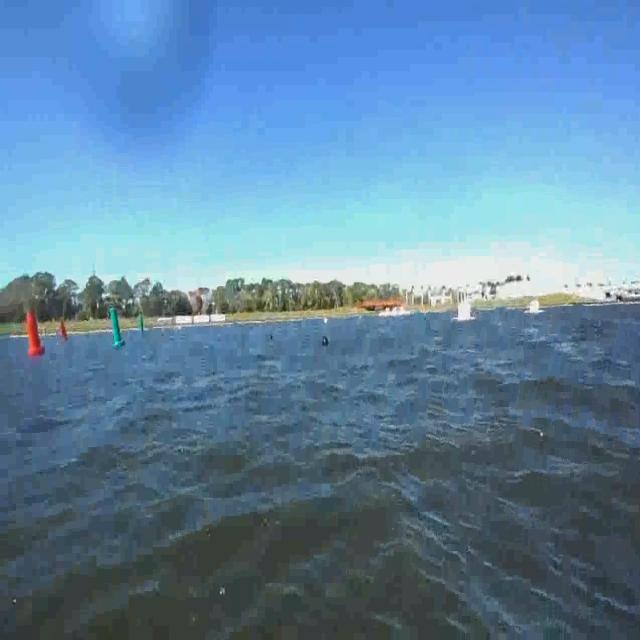black-buoy: (322, 336, 329, 346), (268, 335, 274, 340)
green-column-buoy: (110, 309, 128, 351), (140, 314, 145, 332)
red-column-buoy: (25, 309, 45, 356), (58, 319, 67, 342)
